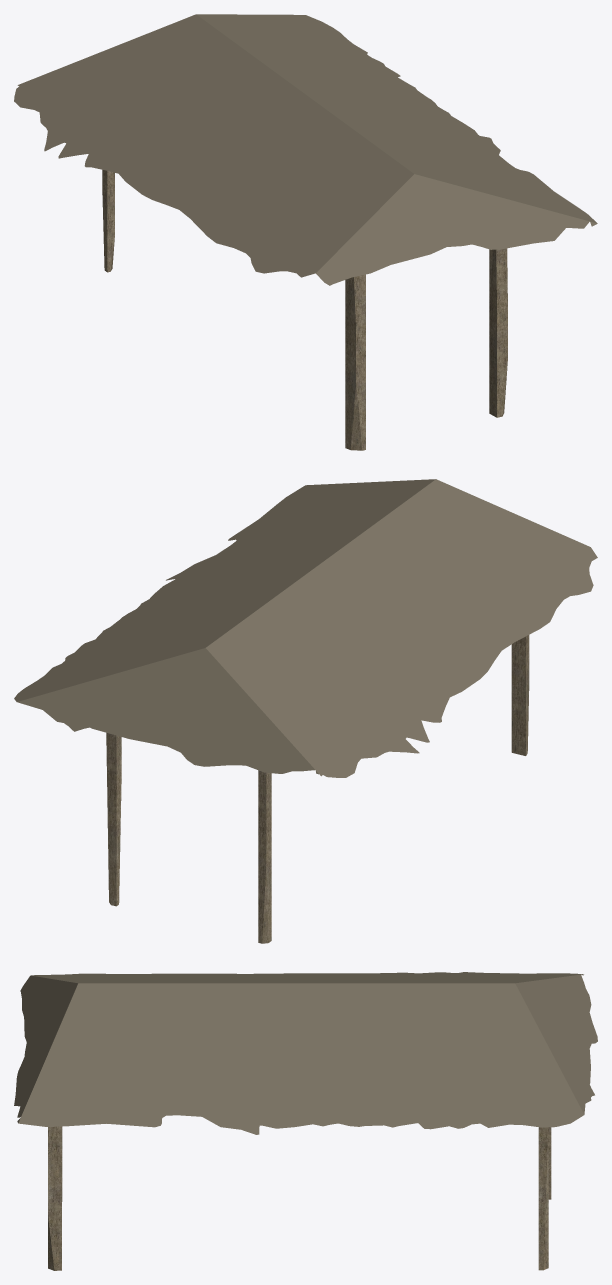
The model's file is Shade 3.fbx.
The picture shows the model from 3 angles, top to bottom: view 1: azimuth 30°, elevation 25°; view 2: azimuth 150°, elevation 25°; view 3: azimuth 270°, elevation 25°; orthographic projection. The views are drawn at different scales.
Visible parts, largest first — view 1: Model; view 2: Model; view 3: Model.
Part boxes in pixels (x1=…): Model: x1=14, y1=14, x2=597, y2=450; Model: x1=14, y1=479, x2=597, y2=943; Model: x1=14, y1=972, x2=597, y2=1270.
Size of the model in its own units: 20084 by 13937 by 29554.
